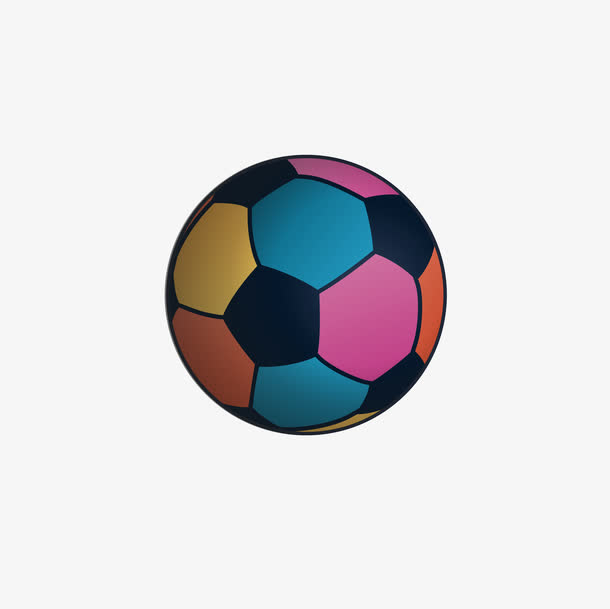ball: (165, 155, 448, 436)
